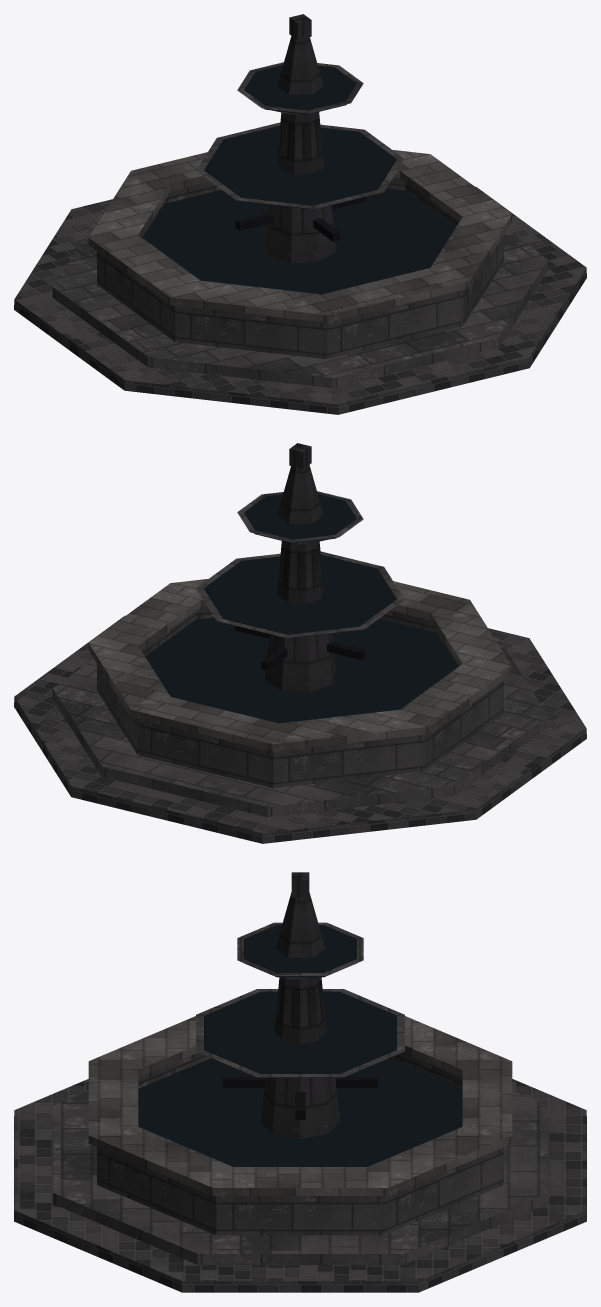
The model's file is FuenteMercado.gltf.
3 renders of one model, top to bottom at view 1: azimuth 30°, elevation 25°; view 2: azimuth 150°, elevation 25°; view 3: azimuth 270°, elevation 25°, orthographic. The views are drawn at different scales.
Visible parts, largest first — view 1: FuenteMercado; view 2: FuenteMercado; view 3: FuenteMercado.
Part boxes in pixels (x1,y1,x2,y2): FuenteMercado: [14, 14, 586, 414]; FuenteMercado: [14, 443, 586, 843]; FuenteMercado: [14, 872, 586, 1292].
Size of the model in its own units: 9.62 by 5.47 by 9.62.
6 materials, 4 textured.
